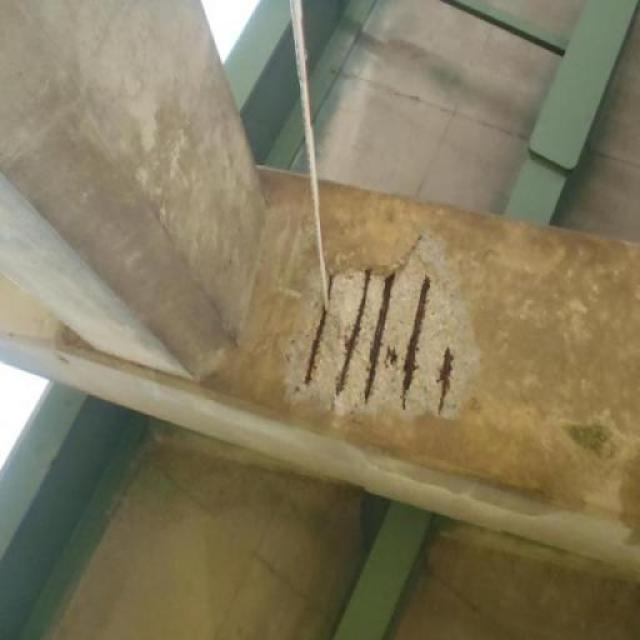D0w0: (284, 232, 480, 426)
